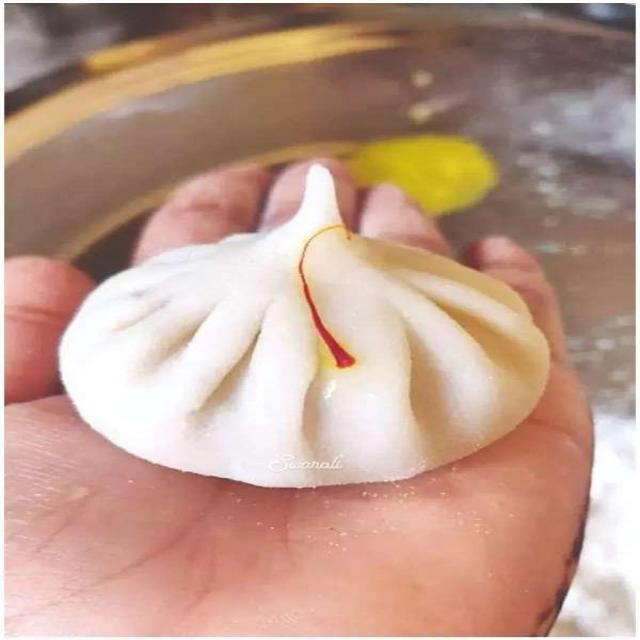modak: (151, 242, 491, 462)
